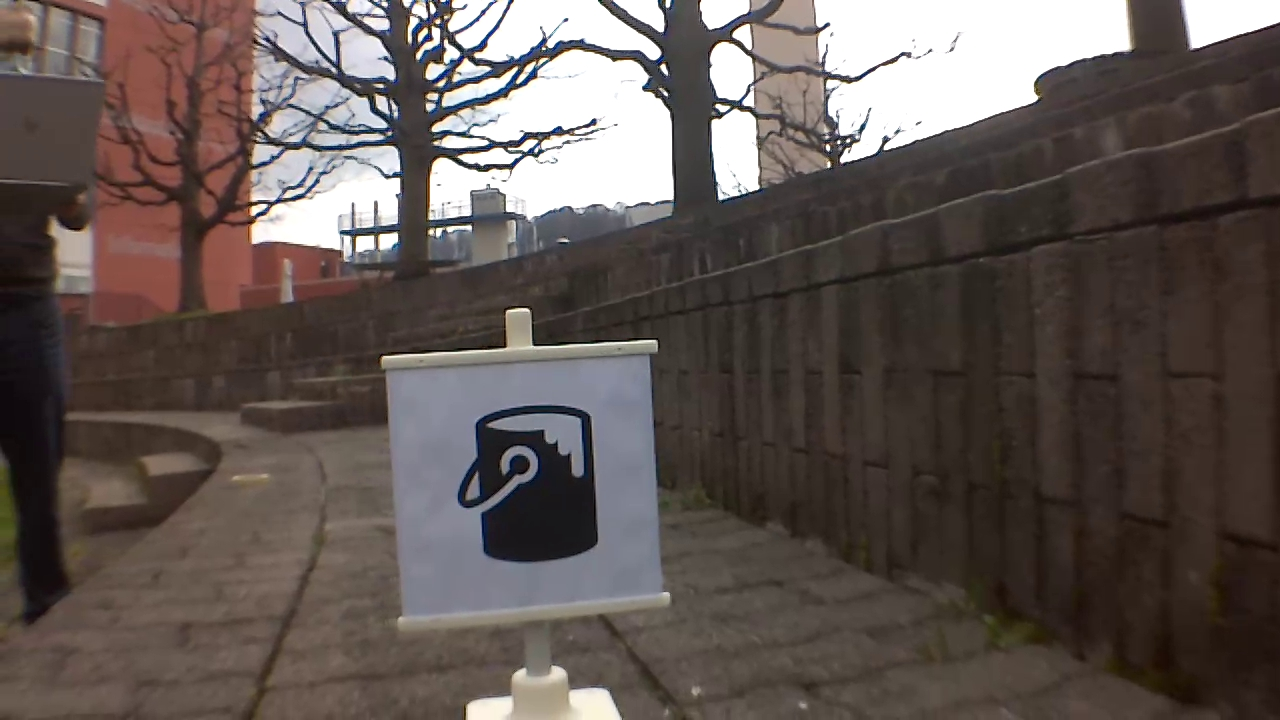bucket: (459, 399, 600, 560)
